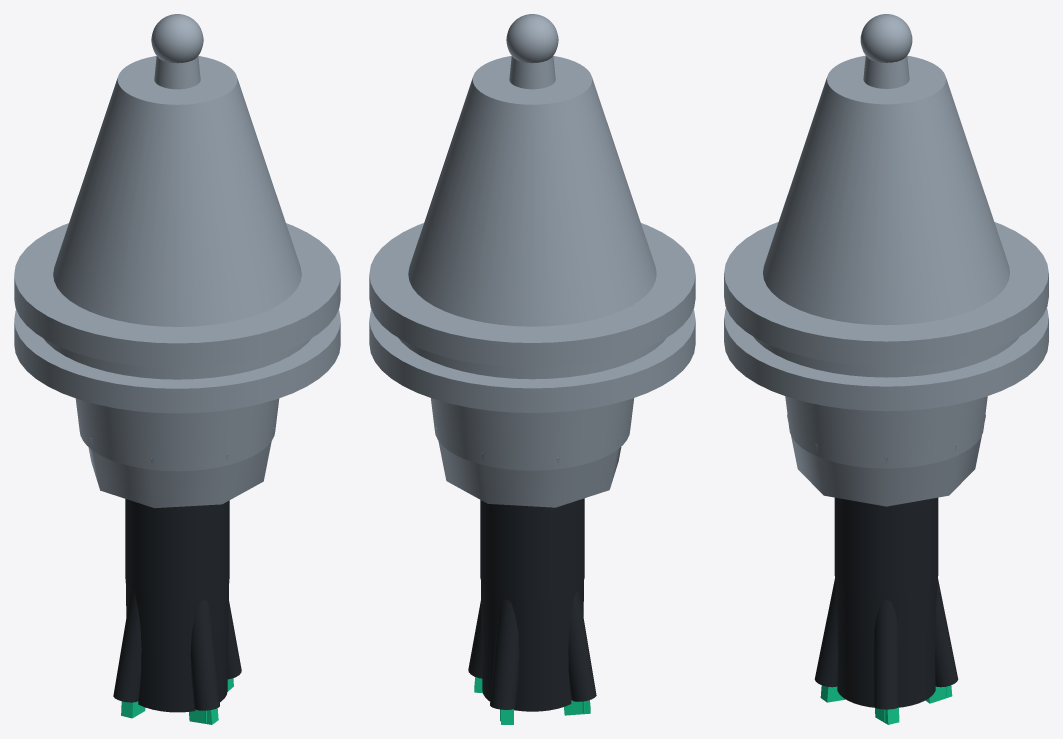
The model's file is cnc_tool_assembly.glb.
The picture shows the model from 3 angles, left to right: view 1: azimuth 30°, elevation 25°; view 2: azimuth 150°, elevation 25°; view 3: azimuth 270°, elevation 25°; orthographic projection.
Parts seen in each view (by area): view 1: Tool_Holder_Taper, Tool_Holder_Flange_Top, Tool_Holder_Flange_Bottom, Tool_Holder_Collet_Nose, Tool_Shank, End_Mill_Body, Tool_Holder, Tool_Holder_Groove, Flute_2, Tool_Holder_Knob, Flute_3, Tool_Holder_Pull_Stud (+1 smaller); view 2: Tool_Holder_Taper, Tool_Holder_Flange_Top, Tool_Holder_Flange_Bottom, Tool_Holder_Collet_Nose, Tool_Shank, End_Mill_Body, Tool_Holder, Tool_Holder_Groove, Flute_4, Tool_Holder_Knob, Flute_3, Tool_Holder_Pull_Stud (+1 smaller); view 3: Tool_Holder_Taper, Tool_Holder_Flange_Top, Tool_Holder_Flange_Bottom, Tool_Holder_Collet_Nose, Tool_Shank, End_Mill_Body, Tool_Holder, Tool_Holder_Groove, Flute_1, Tool_Holder_Knob, Flute_2, Flute_4 (+1 smaller).
Boxes of the visible parts, x1,y1,x2,y2 form: Tool_Holder_Taper: [53, 56, 301, 326]; Tool_Holder_Flange_Top: [14, 223, 340, 367]; Tool_Holder_Flange_Bottom: [14, 310, 340, 413]; Tool_Holder_Collet_Nose: [75, 398, 279, 471]; Tool_Shank: [125, 499, 229, 599]; End_Mill_Body: [125, 581, 229, 712]; Tool_Holder: [88, 428, 274, 508]; Tool_Holder_Groove: [43, 338, 311, 379]; Flute_2: [190, 600, 219, 710]; Tool_Holder_Knob: [151, 14, 203, 63]; Flute_3: [113, 592, 141, 702]; Tool_Holder_Pull_Stud: [154, 56, 200, 89]; Tool_Holder_Taper: [408, 56, 656, 326]; Tool_Holder_Flange_Top: [369, 223, 695, 367]; Tool_Holder_Flange_Bottom: [369, 309, 695, 412]; Tool_Holder_Collet_Nose: [431, 398, 633, 470]; Tool_Shank: [480, 498, 584, 599]; End_Mill_Body: [481, 581, 583, 711]; Tool_Holder: [436, 427, 621, 507]; Tool_Holder_Groove: [398, 338, 666, 379]; Flute_4: [490, 599, 519, 709]; Tool_Holder_Knob: [506, 14, 558, 63]; Flute_3: [568, 591, 596, 701]; Tool_Holder_Pull_Stud: [509, 56, 555, 89]; Tool_Holder_Taper: [763, 55, 1009, 325]; Tool_Holder_Flange_Top: [724, 222, 1048, 365]; Tool_Holder_Flange_Bottom: [724, 308, 1048, 411]; Tool_Holder_Collet_Nose: [785, 396, 987, 468]; Tool_Shank: [834, 497, 938, 596]; End_Mill_Body: [835, 578, 937, 707]; Tool_Holder: [787, 415, 985, 506]; Tool_Holder_Groove: [753, 336, 1019, 377]; Flute_1: [873, 599, 899, 709]; Tool_Holder_Knob: [860, 14, 912, 62]; Flute_2: [814, 578, 837, 687]; Flute_4: [935, 578, 958, 687].
Bounding box in the file's own units: 3 × 6.96 × 3.
